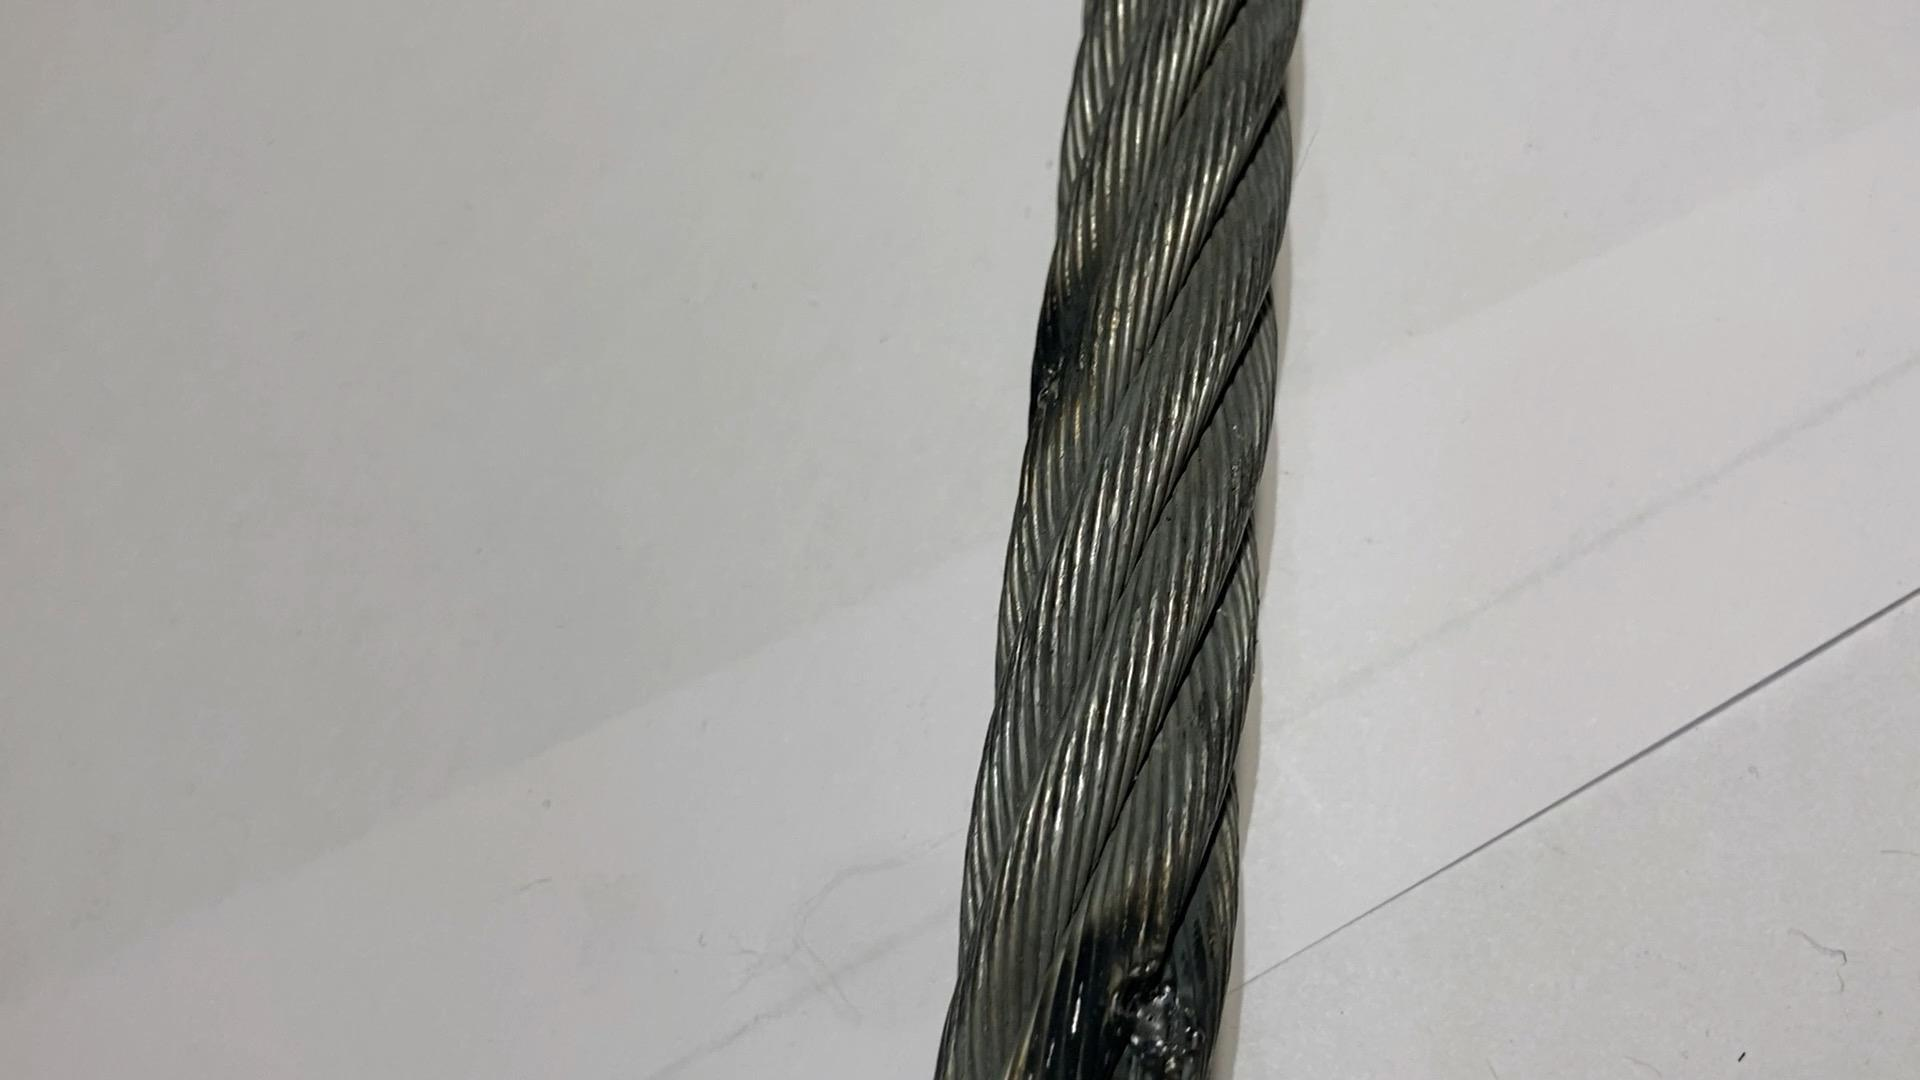thunderbolt: (1095, 953, 1234, 1063), (1021, 270, 1121, 406)
